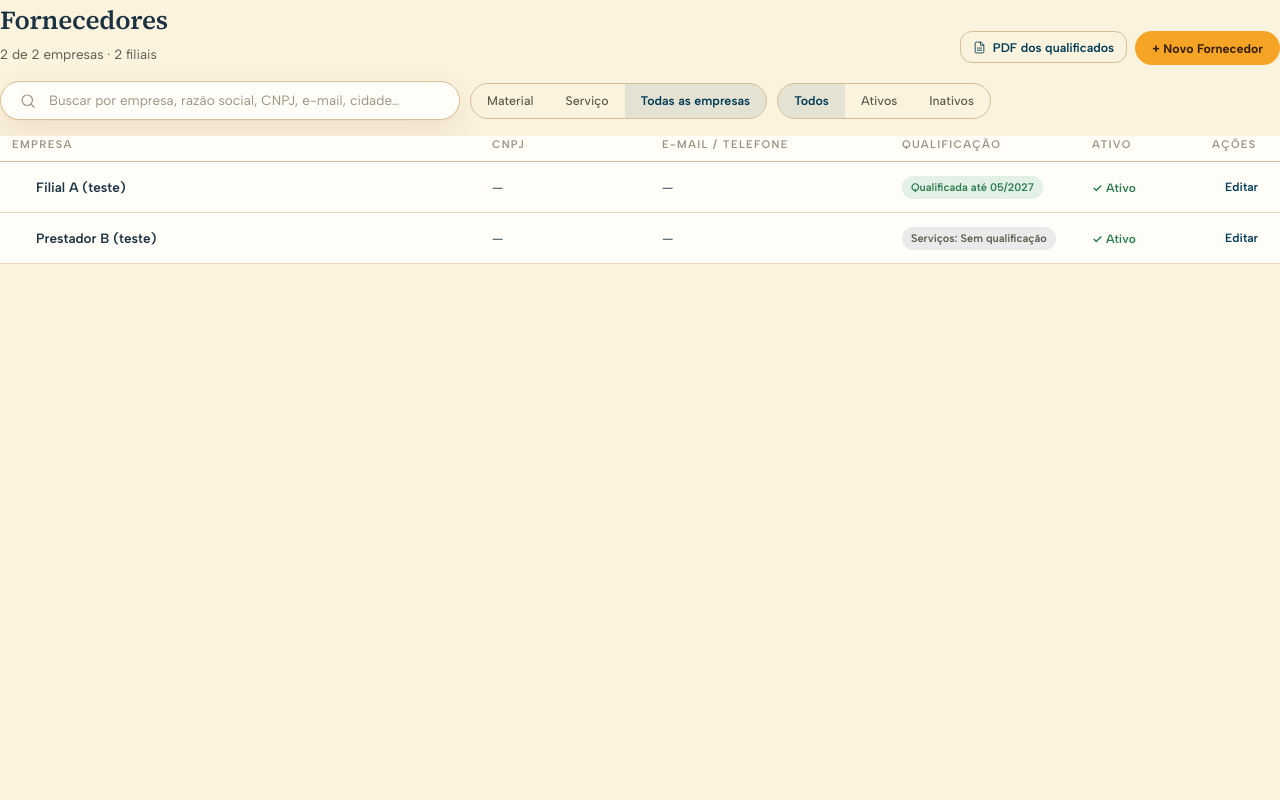
Test: D614 §2.1 — a gaveta mostra as ECRs da qualificação, só para ler › a linha diz as ECRs da qualificação que vale e onde muda; não há caixa de ECR para marcar
Click the button "Editar" in the row of "Filial A (teste)" at (1242,187), box [1215,173,1268,201]
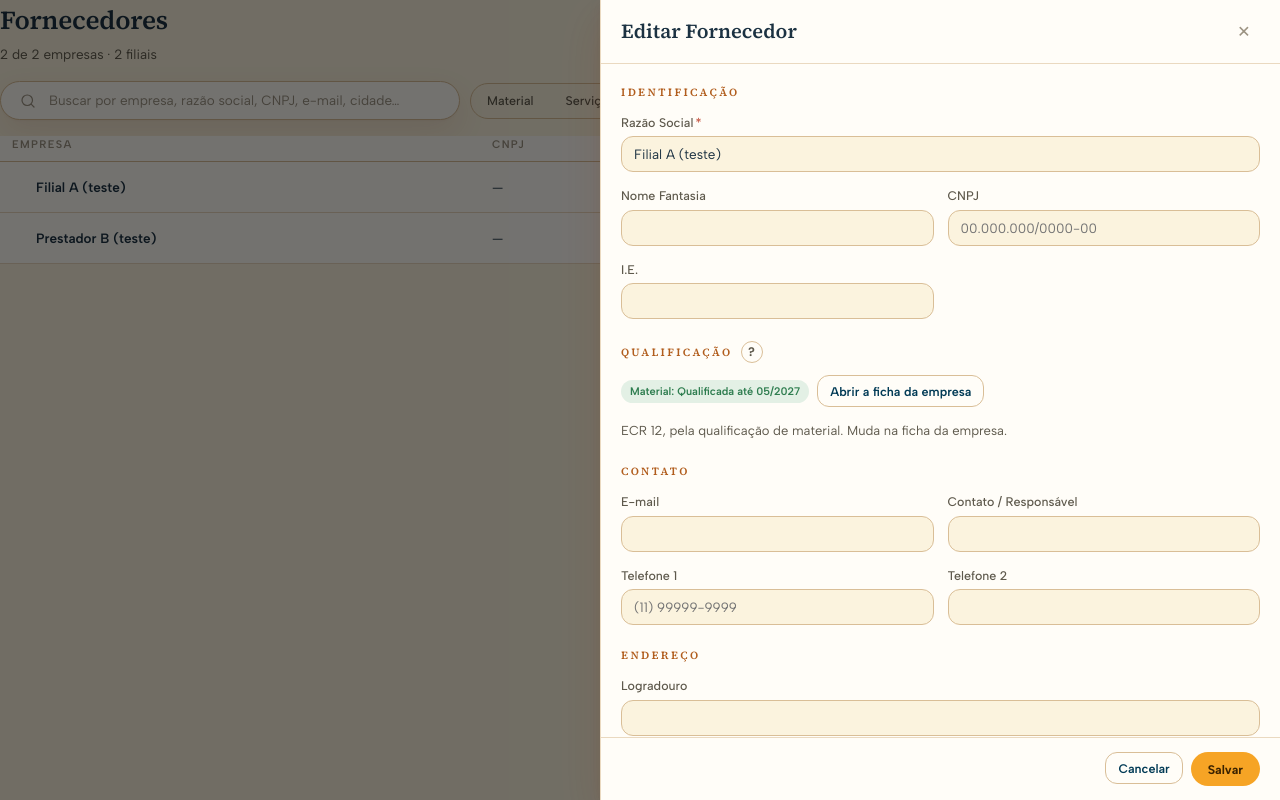
Expected: the text "ECR 12, pela qualificação de material. Muda na ficha da empresa." is shown, [621,423,1007,438]
